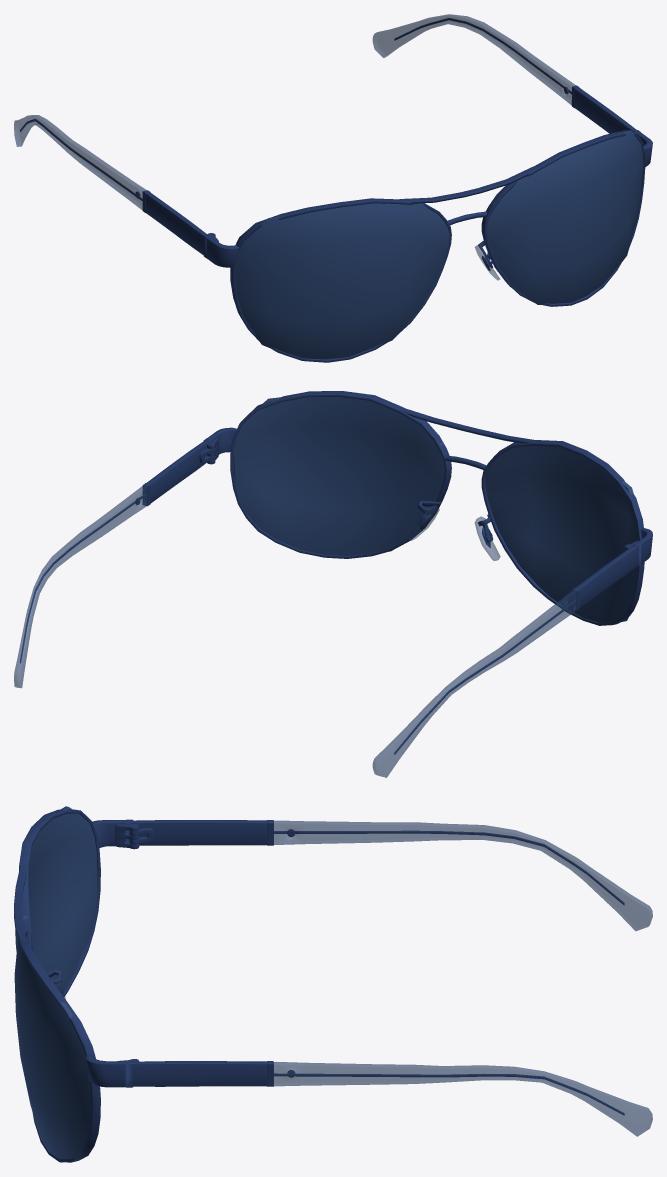
File: cat-eye-zarif-gece-mavisi.glb
3 views of the same model, one above another, from view 1: azimuth 30°, elevation 25°; view 2: azimuth 150°, elevation 25°; view 3: azimuth 270°, elevation 25° (orthographic). The views are drawn at different scales.
Parts seen in each view (by area): view 1: OPTIK_PRODUCT_267; view 2: OPTIK_PRODUCT_267; view 3: OPTIK_PRODUCT_267.
Boxes of the visible parts, left/top/right/bottom form: OPTIK_PRODUCT_267: left=14, top=14, right=652, bottom=362; OPTIK_PRODUCT_267: left=14, top=391, right=652, bottom=777; OPTIK_PRODUCT_267: left=14, top=806, right=652, bottom=1162.
Bounding box in the file's own units: 0.1569 × 0.0556 × 0.1727.
